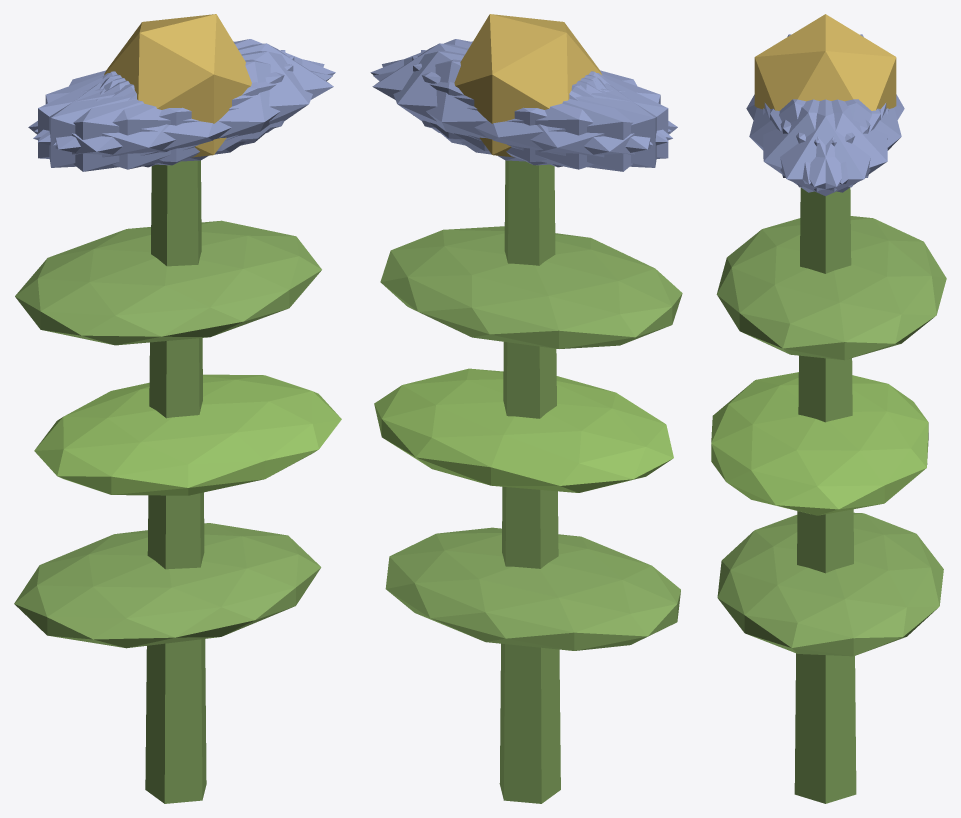
Rendered from strobilanthes-auriculata.glb.
3 renders of one model, left to right at view 1: azimuth 30°, elevation 25°; view 2: azimuth 150°, elevation 25°; view 3: azimuth 270°, elevation 25°, orthographic.
Parts seen in each view (by area): view 1: leaf2, leaf1, leaf0, stem, center, petal1, petal6, petal2, petal5, petal7, petal0, petal4 (+2 smaller); view 2: leaf2, leaf0, leaf1, stem, center, petal8, petal3, petal7, petal4, petal2, petal0, petal5 (+2 smaller); view 3: leaf2, leaf1, leaf0, stem, center, petal0, petal5, petal4, petal1, petal8.
Part boxes in pixels (x1=…): leaf2: x1=15, y1=220, x2=321, y2=345; leaf1: x1=34, y1=374, x2=341, y2=495; leaf0: x1=14, y1=523, x2=321, y2=648; stem: x1=145, y1=160, x2=206, y2=803; center: x1=104, y1=14, x2=251, y2=157; petal1: x1=33, y1=59, x2=332, y2=169; petal6: x1=28, y1=73, x2=245, y2=171; petal2: x1=49, y1=50, x2=285, y2=167; petal5: x1=53, y1=51, x2=324, y2=161; petal7: x1=38, y1=56, x2=294, y2=165; petal0: x1=104, y1=43, x2=333, y2=151; petal4: x1=34, y1=39, x2=335, y2=142; leaf2: x1=380, y1=226, x2=682, y2=348; leaf0: x1=385, y1=527, x2=680, y2=650; leaf1: x1=374, y1=368, x2=673, y2=492; stem: x1=499, y1=160, x2=560, y2=803; center: x1=454, y1=14, x2=601, y2=157; petal8: x1=373, y1=59, x2=672, y2=169; petal3: x1=461, y1=73, x2=677, y2=171; petal7: x1=421, y1=50, x2=656, y2=167; petal4: x1=382, y1=51, x2=652, y2=161; petal2: x1=412, y1=56, x2=668, y2=165; petal0: x1=372, y1=43, x2=602, y2=151; petal5: x1=370, y1=39, x2=671, y2=142; leaf2: x1=716, y1=216, x2=946, y2=360; leaf1: x1=711, y1=372, x2=928, y2=515; leaf0: x1=717, y1=512, x2=943, y2=656; stem: x1=794, y1=187, x2=856, y2=803; center: x1=754, y1=14, x2=896, y2=110; petal0: x1=764, y1=99, x2=886, y2=196; petal5: x1=763, y1=99, x2=880, y2=192; petal4: x1=770, y1=99, x2=888, y2=192; petal1: x1=749, y1=99, x2=870, y2=184; petal8: x1=780, y1=99, x2=901, y2=184.
Size of the model in its own units: 0.1452 by 0.361 by 0.1017.
